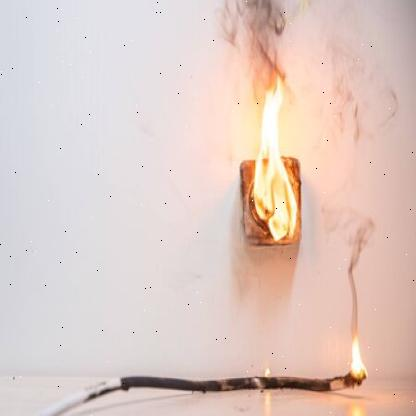fire: (253, 75, 298, 244), (350, 340, 371, 388)
smoke: (220, 4, 288, 107), (335, 203, 383, 330)
